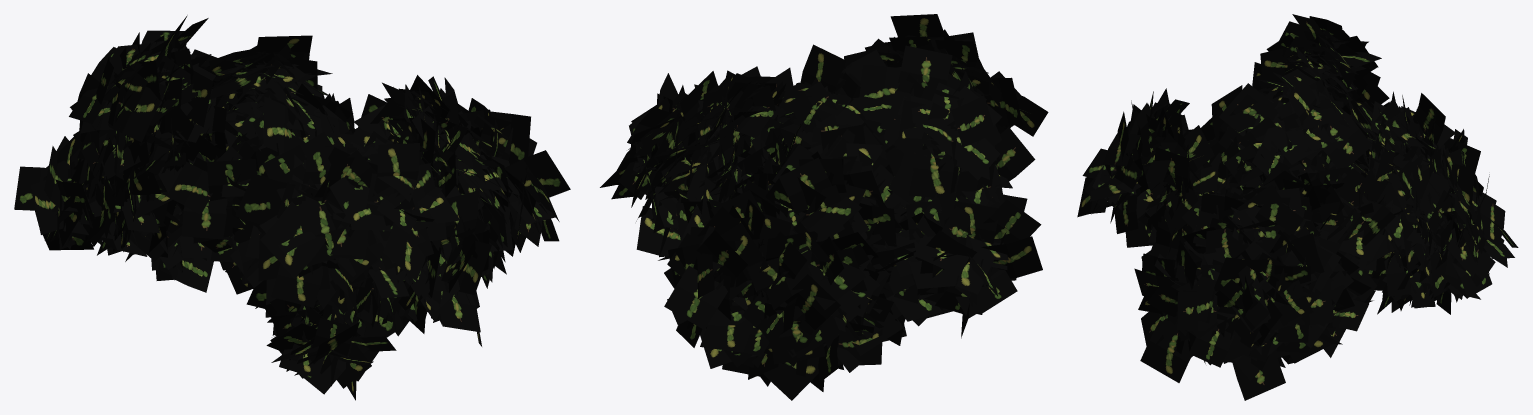
Rendered from SM_Tree_Oak_B_Leaves.fbx.
The picture shows the model from 3 angles, left to right: view 1: azimuth 30°, elevation 25°; view 2: azimuth 150°, elevation 25°; view 3: azimuth 270°, elevation 25°; orthographic projection. The views are drawn at different scales.
Visible parts, largest first — view 1: Tree_Oak_B_Leaves; view 2: Tree_Oak_B_Leaves; view 3: Tree_Oak_B_Leaves.
Part boxes in pixels (left/top/right/bottom): Tree_Oak_B_Leaves: left=14, top=15, right=570, bottom=400; Tree_Oak_B_Leaves: left=600, top=14, right=1048, bottom=400; Tree_Oak_B_Leaves: left=1077, top=14, right=1518, bottom=400.
Size of the model in its own units: 11.74 by 11.98 by 8.9.
Materials: 1 (1 with a texture image).
